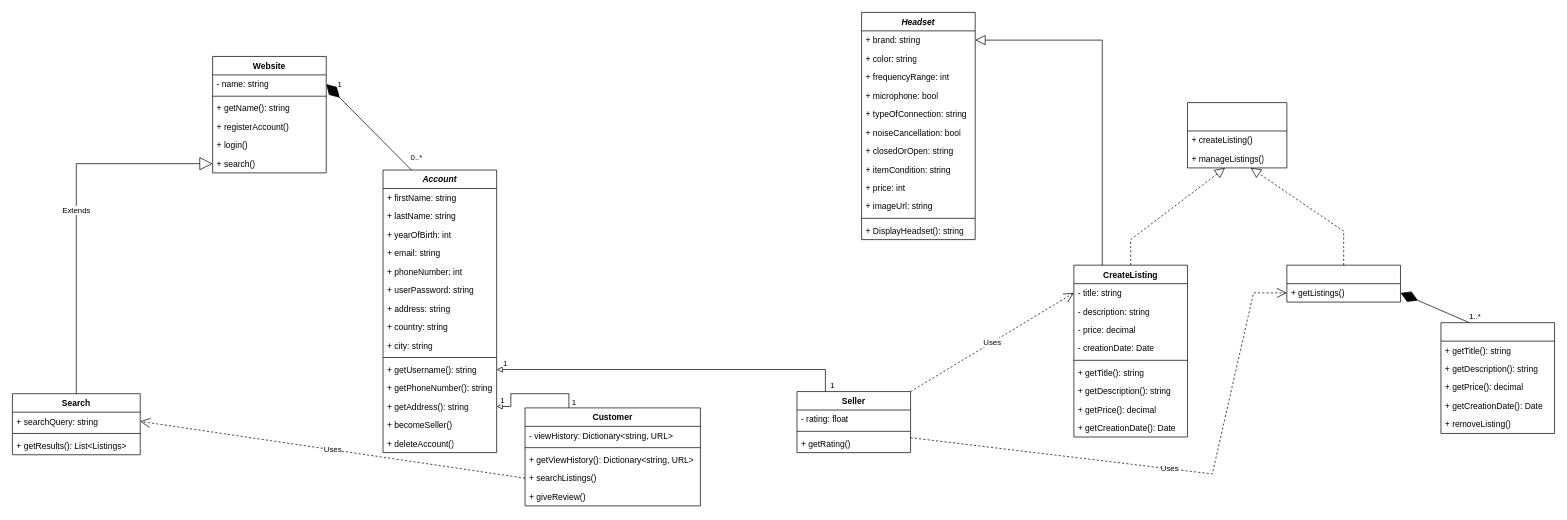
The diagram is 1567 pixels wide and 520 high, and some of its shapes have lost their labels. Each missing label, with the box of its shape:
<< interface >> Listing: (1187, 102, 1287, 168)
ActiveListings: (1440, 322, 1555, 433)
ManageListings: (1286, 264, 1400, 302)
